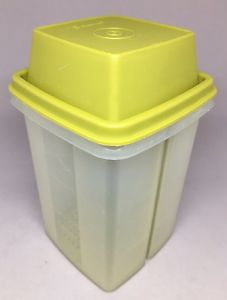Rec_Plastic: (8, 16, 214, 295)
